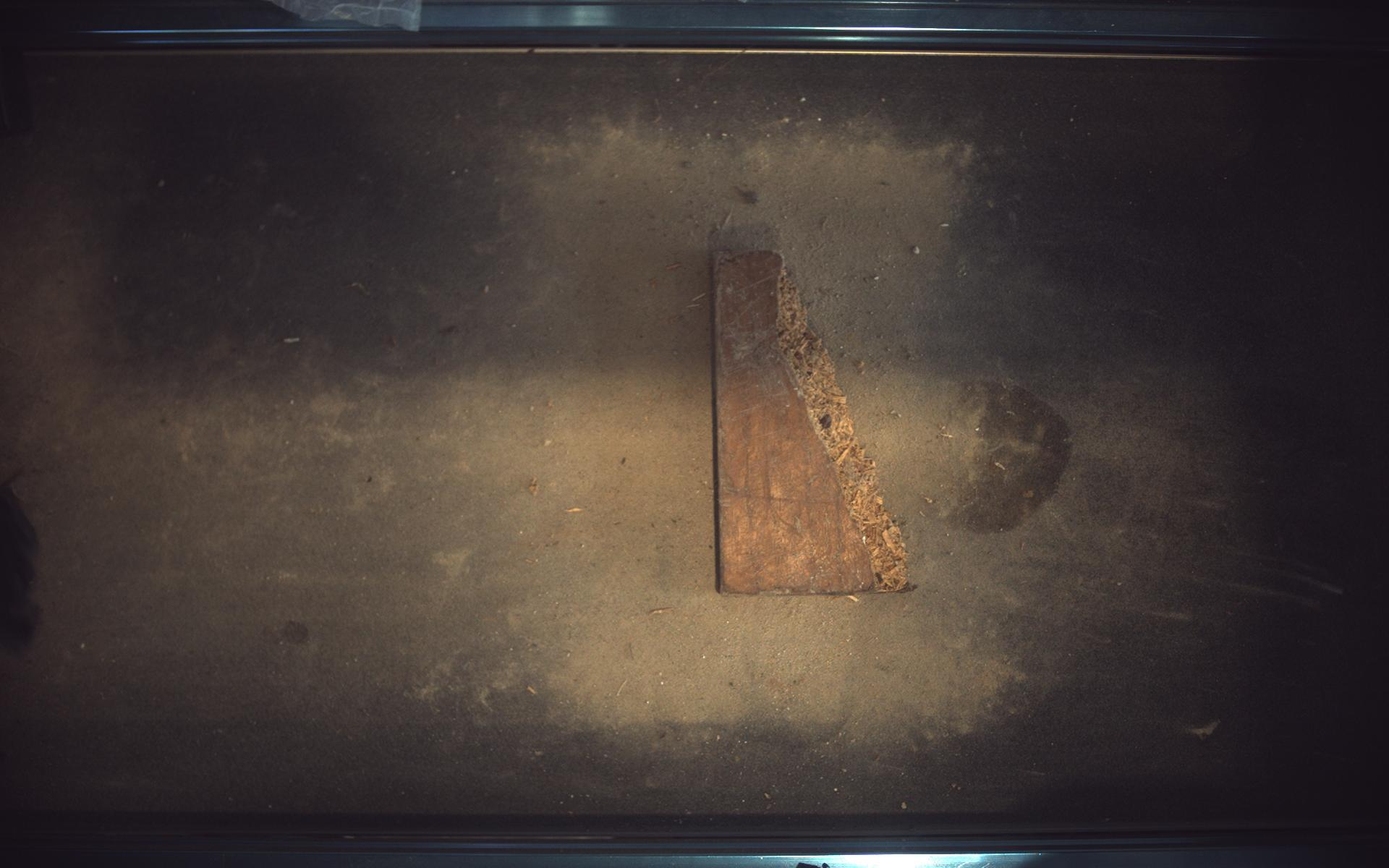wood: (714, 249, 910, 595)
